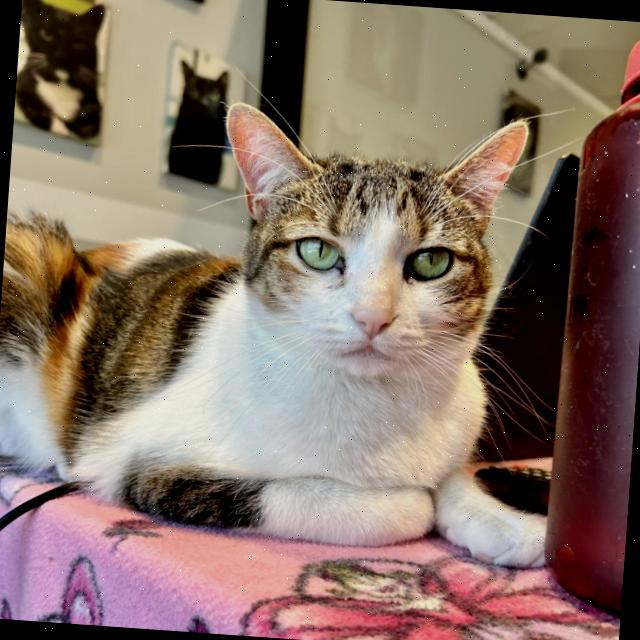manx_cat: (200, 78, 540, 400)
